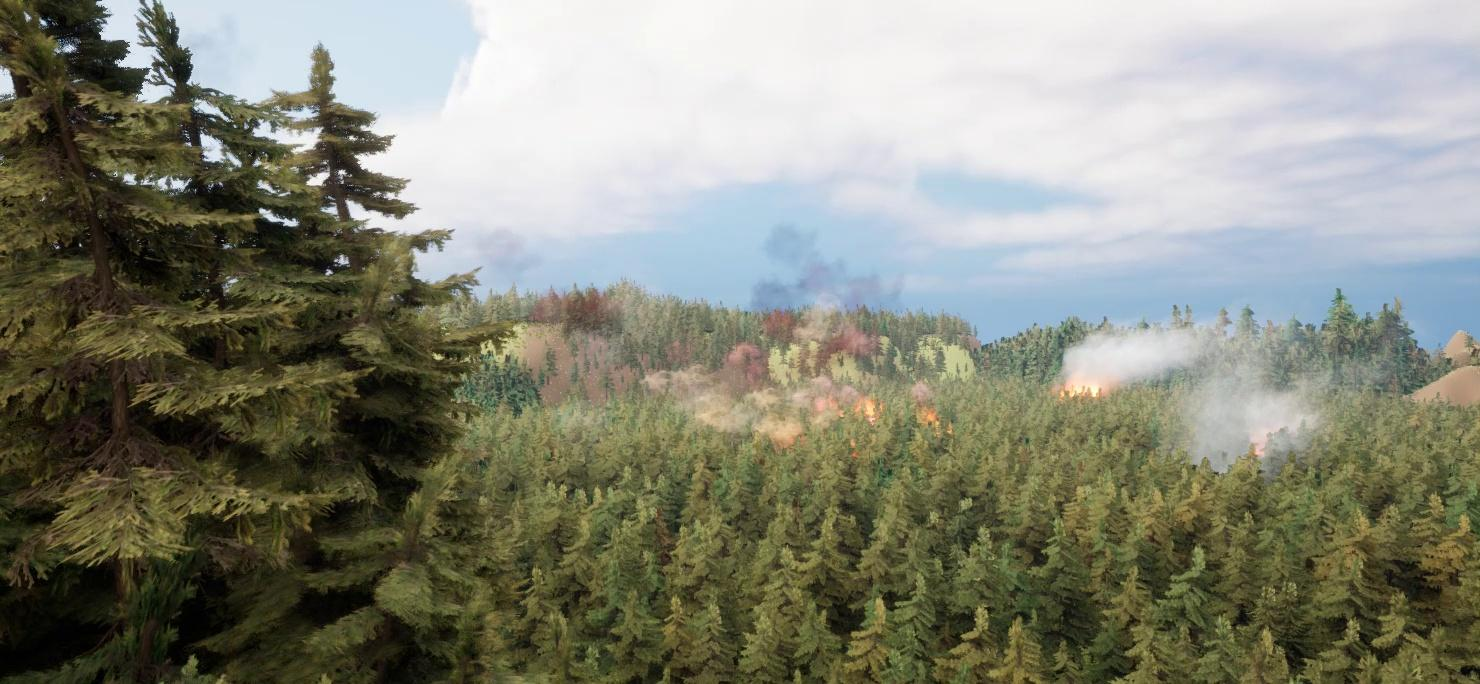fire: (808, 386, 952, 455), (1052, 378, 1108, 396)
smoke: (1072, 317, 1331, 473), (747, 214, 885, 411)
